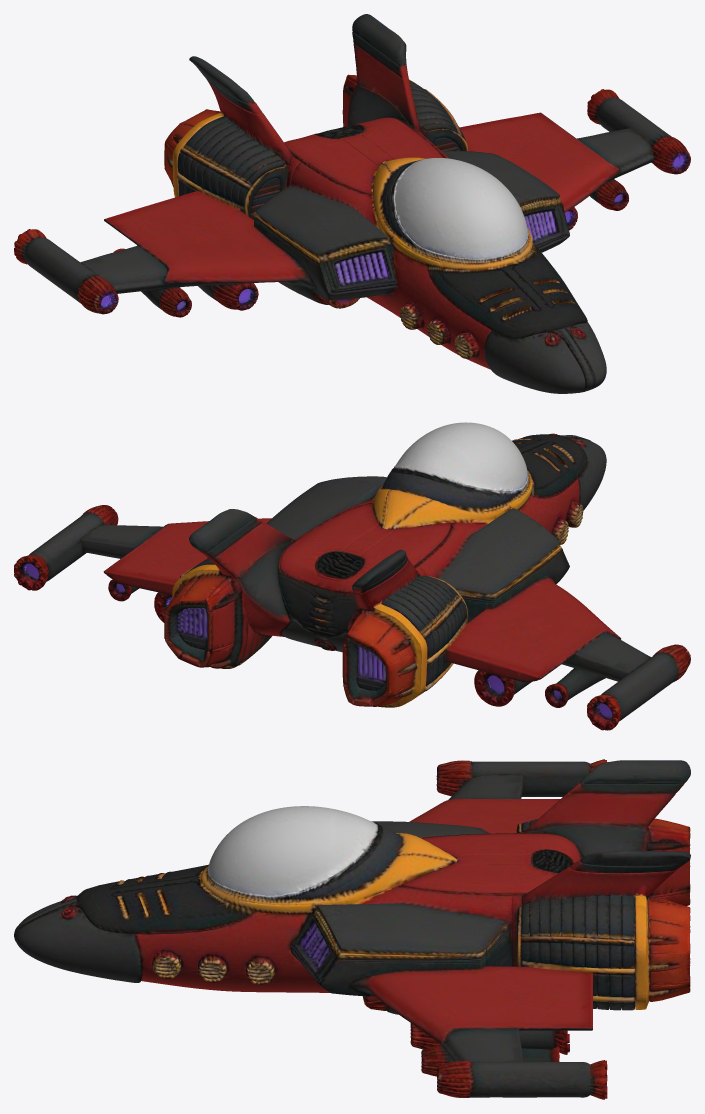
File: ship_lunar.fbx
3 views of the same model, one above another, from view 1: azimuth 30°, elevation 25°; view 2: azimuth 150°, elevation 25°; view 3: azimuth 270°, elevation 25° (orthographic). The views are drawn at different scales.
Visible parts, largest first — view 1: tripo_node_b02c3ed1; view 2: tripo_node_b02c3ed1; view 3: tripo_node_b02c3ed1.
Part boxes in pixels (bbox=[...]): tripo_node_b02c3ed1: bbox=[14, 14, 690, 393]; tripo_node_b02c3ed1: bbox=[14, 422, 690, 730]; tripo_node_b02c3ed1: bbox=[14, 759, 690, 1099].
Size of the model in its own units: 98.01 by 25.22 by 88.3.
Materials: 1 (1 with a texture image).
